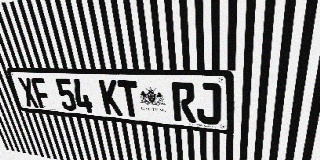4: (70, 79, 94, 113)
5: (55, 78, 78, 111)
F: (30, 77, 53, 109)
J: (195, 82, 221, 125)
K: (98, 80, 123, 116)
R: (171, 82, 196, 123)
T: (117, 80, 142, 118)
X: (17, 77, 40, 108)
